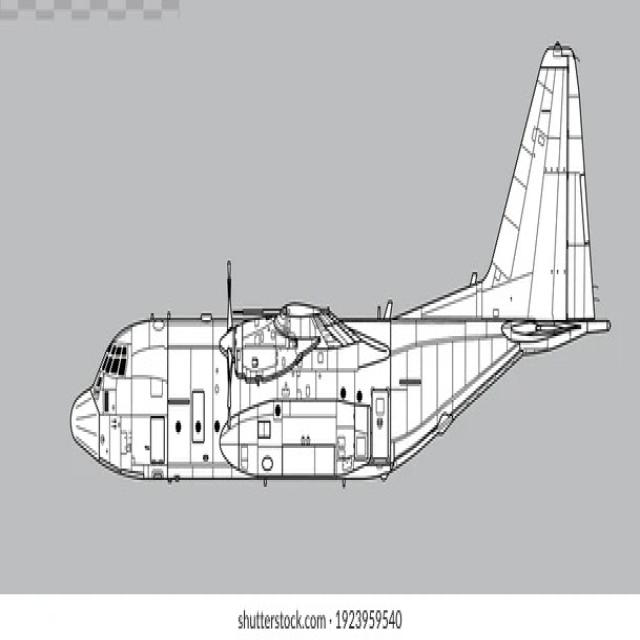C130: (61, 11, 630, 511)
